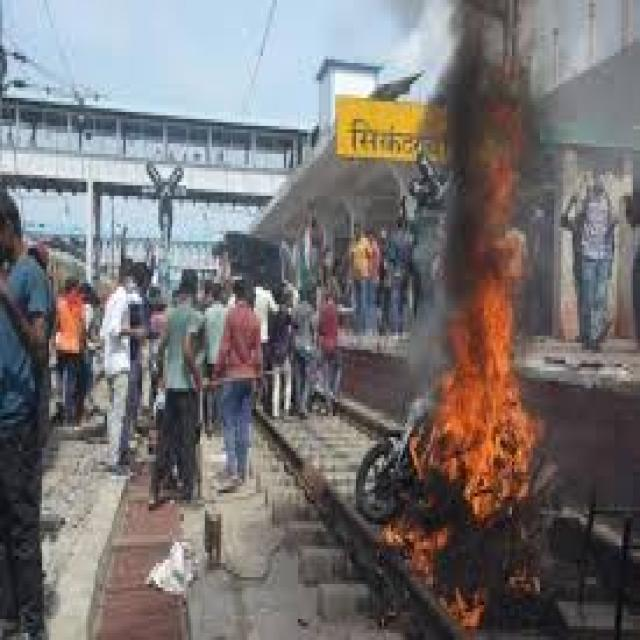Fire: (440, 106, 522, 392), (408, 392, 546, 522), (382, 520, 448, 578), (452, 586, 483, 630)
Smoke: (440, 2, 530, 106), (438, 108, 484, 302)
